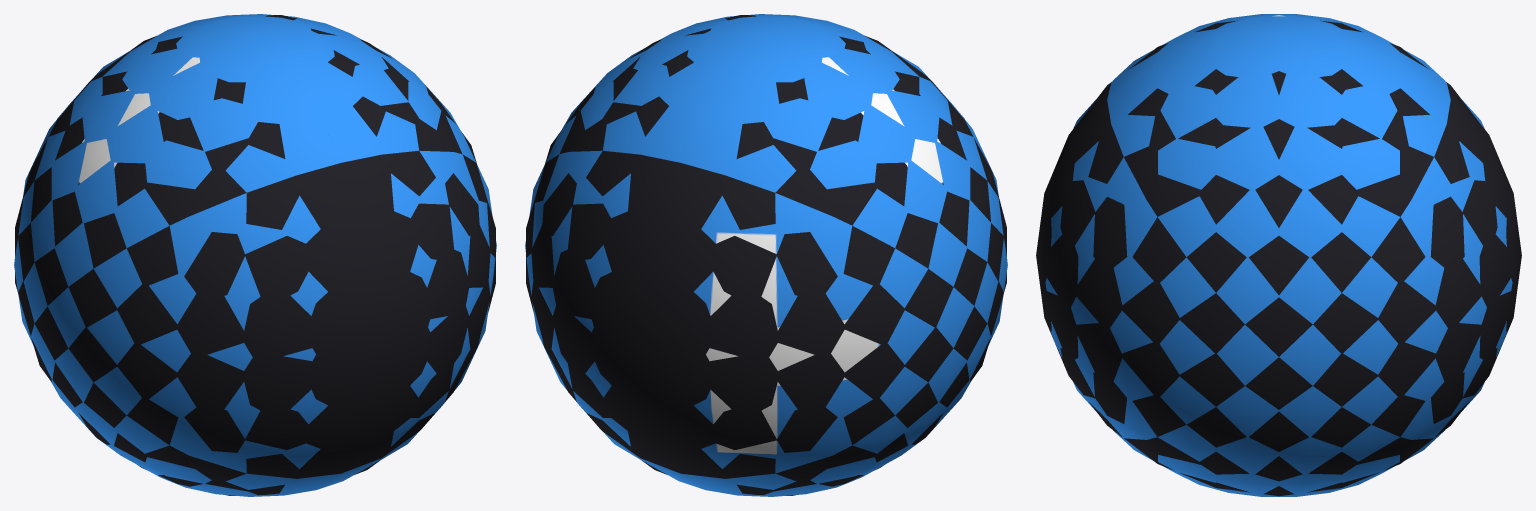
The model's file is hydrogen.glb.
The picture shows the model from 3 angles, left to right: view 1: azimuth 30°, elevation 25°; view 2: azimuth 150°, elevation 25°; view 3: azimuth 270°, elevation 25°; orthographic projection.
Parts seen in each view (by area): view 1: minus, plus; view 2: minus, plus; view 3: plus, minus.
Boxes of the visible parts, x1,y1,x2,y2 form: minus: (15,15,495,495); plus: (14,14,496,496); minus: (526,15,1006,495); plus: (525,14,1007,496); plus: (1045,14,1512,496); minus: (1036,15,1521,496).
Size of the model in its own units: 1.98 by 2 by 2.
2 materials, 2 textured.
